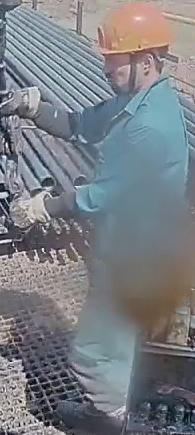gloves: (8, 188, 60, 232), (0, 85, 51, 119)
helmet: (96, 1, 172, 61)
vest: (61, 82, 194, 300)
